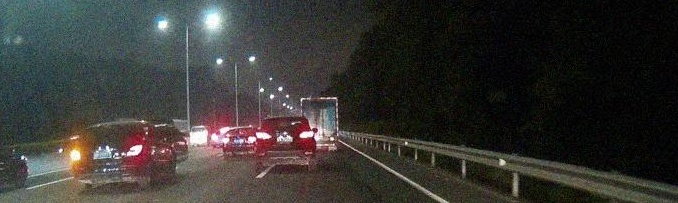L_light: (69, 150, 85, 158), (256, 131, 272, 139)
R_light: (126, 145, 143, 157), (298, 130, 314, 138)
T_light: (109, 125, 123, 128), (281, 117, 291, 120)
night-left: (69, 120, 148, 192)
night-no: (256, 116, 316, 172)
